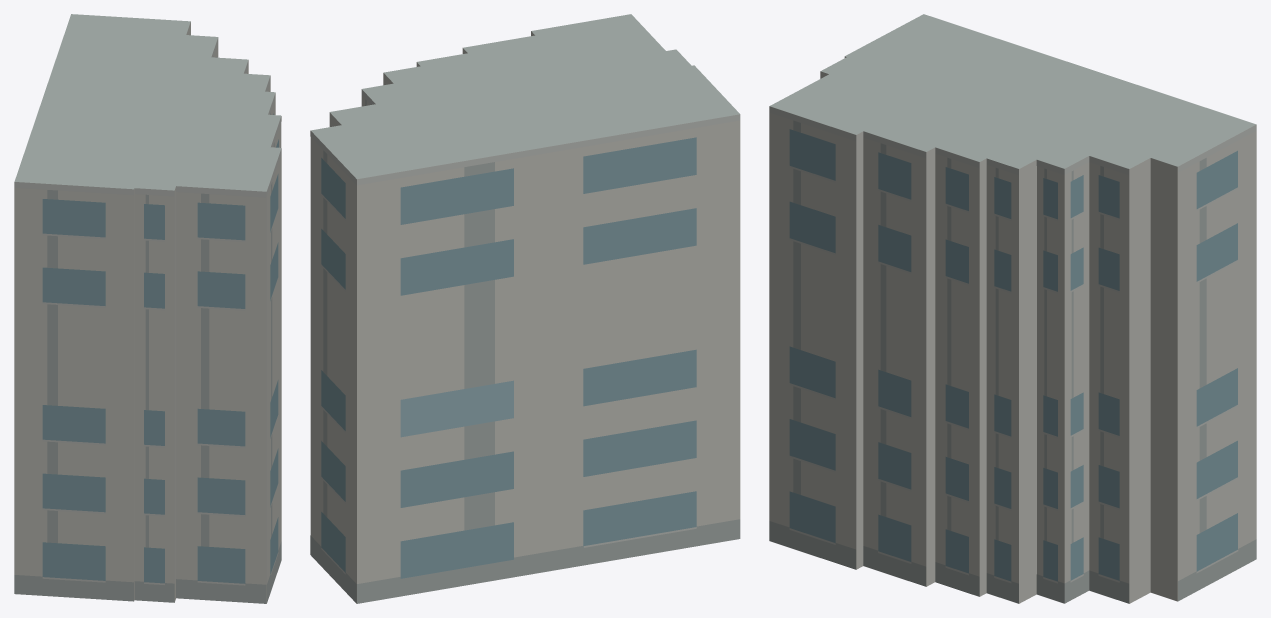
The model's file is survey-upis-32991040.glb.
3 renders of one model, left to right at view 1: azimuth 30°, elevation 25°; view 2: azimuth 150°, elevation 25°; view 3: azimuth 270°, elevation 25°, orthographic. The views are drawn at different scales.
Parts seen in each view (by area): view 1: survey-upis-32991040.tmp; view 2: survey-upis-32991040.tmp; view 3: survey-upis-32991040.tmp.
Boxes of the visible parts, x1,y1,x2,y2 form: survey-upis-32991040.tmp: (14, 14, 281, 603); survey-upis-32991040.tmp: (310, 14, 740, 603); survey-upis-32991040.tmp: (769, 14, 1256, 603).
Bounding box in the file's own units: 12.94 × 16.9 × 17.17.
